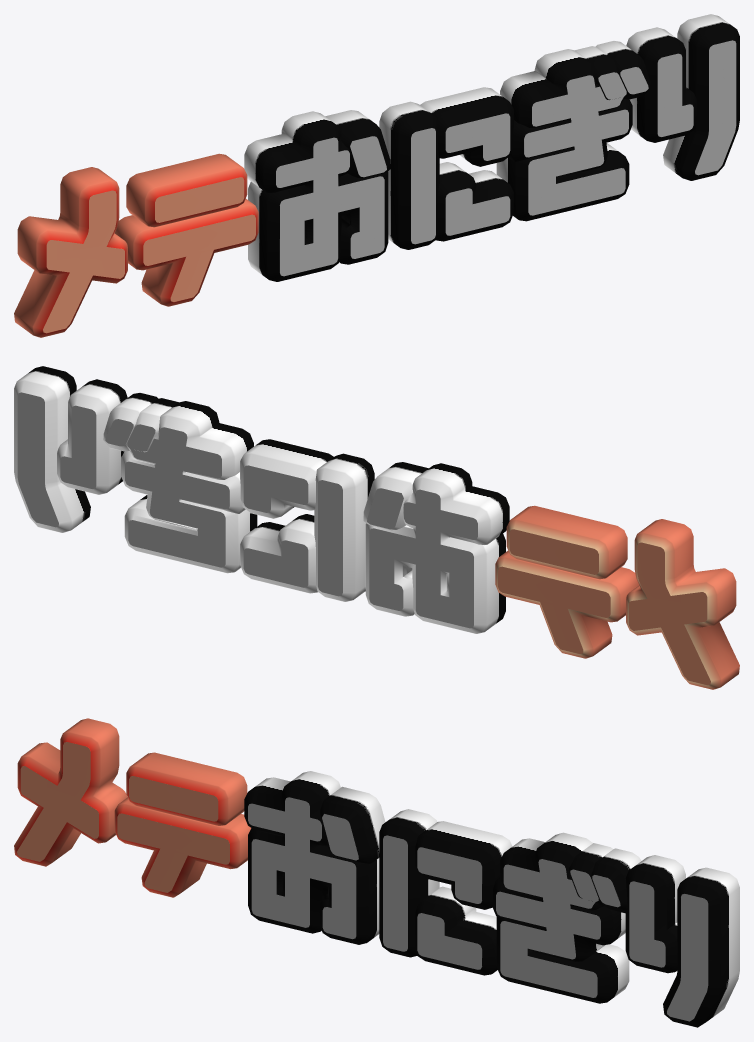
Rendered from title.obj.
3 renders of one model, top to bottom at view 1: azimuth 30°, elevation 25°; view 2: azimuth 150°, elevation 25°; view 3: azimuth 330°, elevation 25°, orthographic.
Parts seen in each view (by area): view 1: テキスト.001, テキスト; view 2: テキスト.001, テキスト; view 3: テキスト.001, テキスト.
Boxes of the visible parts, box(x1,y1,x2,y2) form: テキスト.001: box(244, 14, 739, 281); テキスト: box(14, 153, 258, 337); テキスト.001: box(14, 366, 509, 633); テキスト: box(495, 505, 739, 689); テキスト.001: box(244, 771, 739, 1027); テキスト: box(14, 718, 251, 897).
Bounding box in the file's own units: 11.98 × 2.34 × 0.8237.
2 materials, 2 textured.
